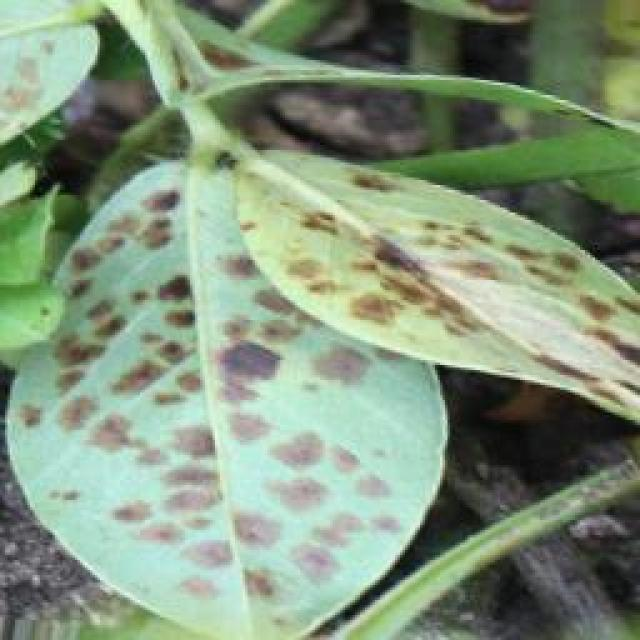Whitefly: (16, 116, 601, 558)
